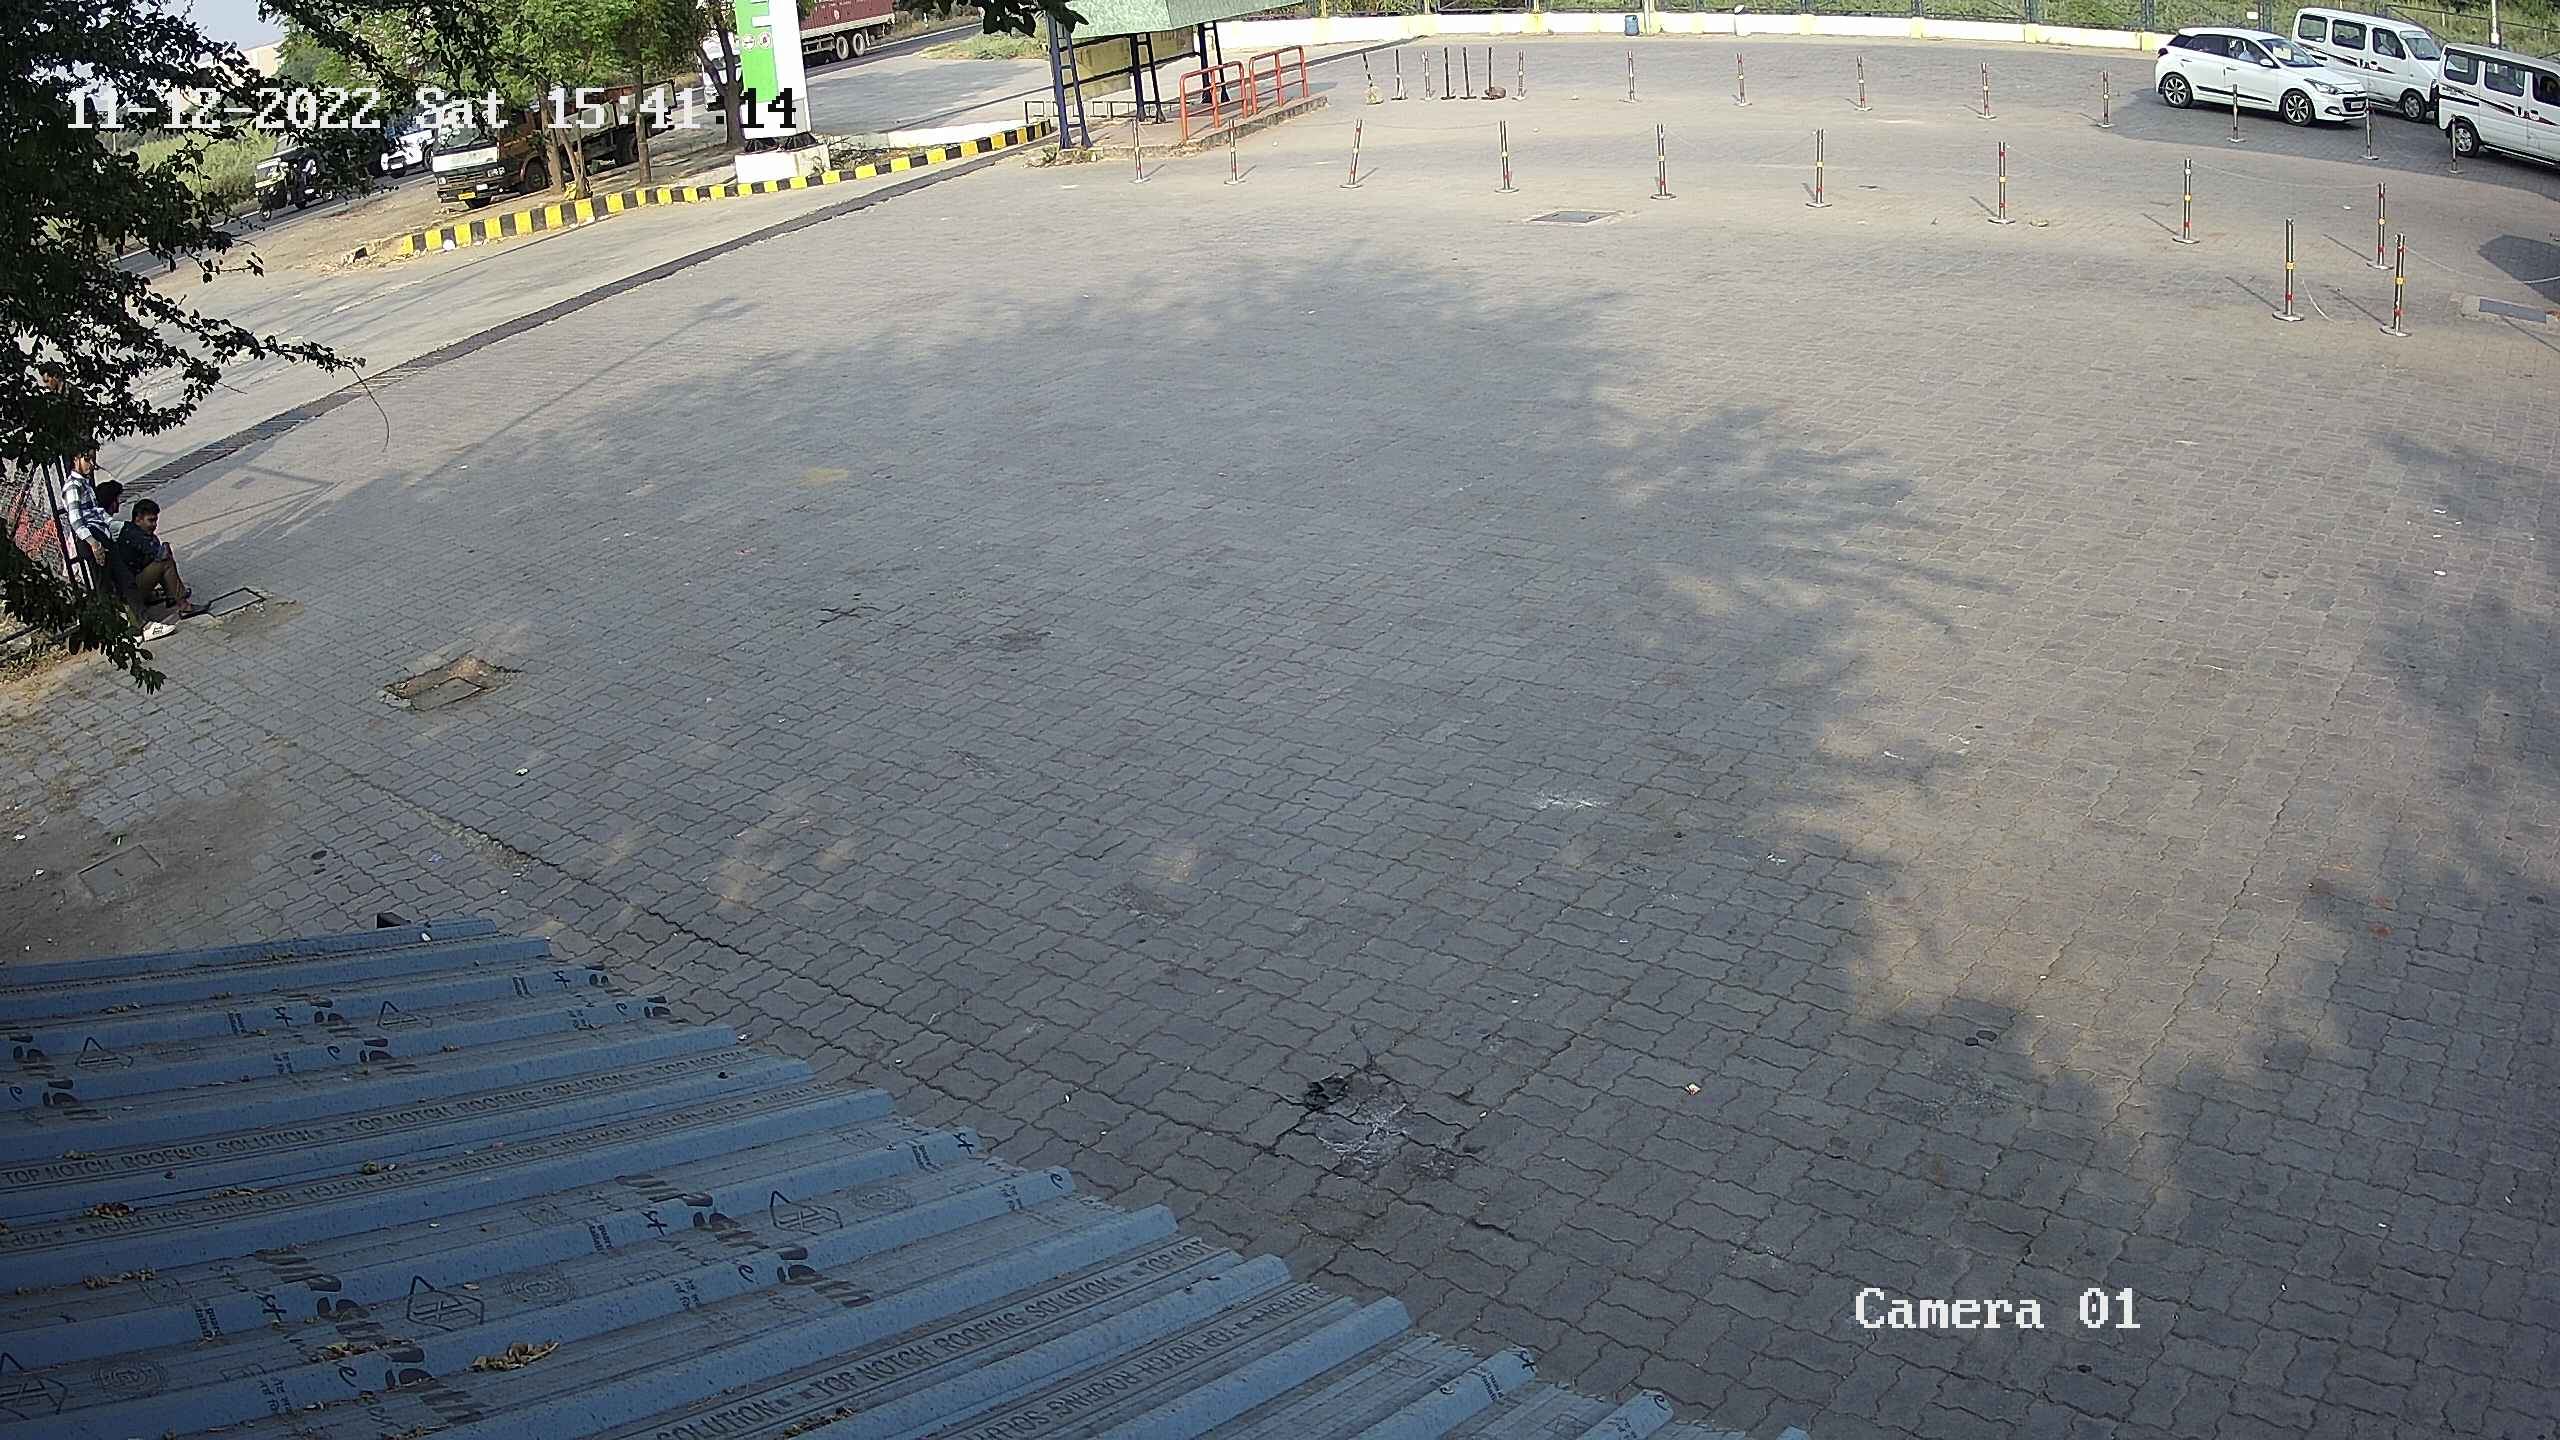Auto: (237, 128, 350, 223)
Car: (2138, 14, 2379, 139), (2277, 4, 2462, 121), (2428, 37, 2560, 195)
HMV: (411, 63, 550, 223), (784, 0, 921, 70)
